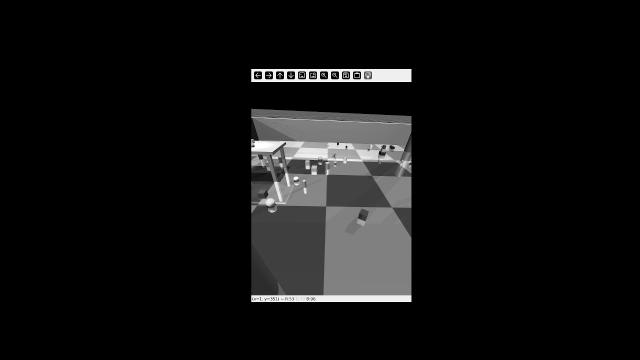cilindro: (402, 132, 417, 154), (302, 178, 308, 190), (324, 161, 332, 170), (277, 155, 284, 164), (388, 144, 395, 153), (343, 154, 349, 161), (331, 151, 337, 158), (407, 161, 414, 166), (400, 159, 404, 164)
cuadrado: (355, 207, 371, 220), (259, 188, 270, 199), (262, 160, 272, 167), (311, 165, 318, 173), (303, 159, 311, 166), (250, 139, 256, 144), (370, 144, 374, 149), (336, 141, 340, 145), (381, 148, 386, 151), (326, 144, 330, 147), (383, 145, 386, 149)
esfera: (264, 196, 279, 212), (316, 155, 324, 163), (292, 175, 299, 183), (344, 143, 349, 150), (249, 144, 255, 149), (366, 147, 370, 154), (333, 160, 338, 165)
rectangulo: (379, 151, 385, 155)
